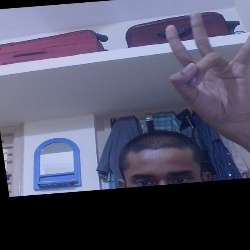hand: (153, 21, 250, 117)
